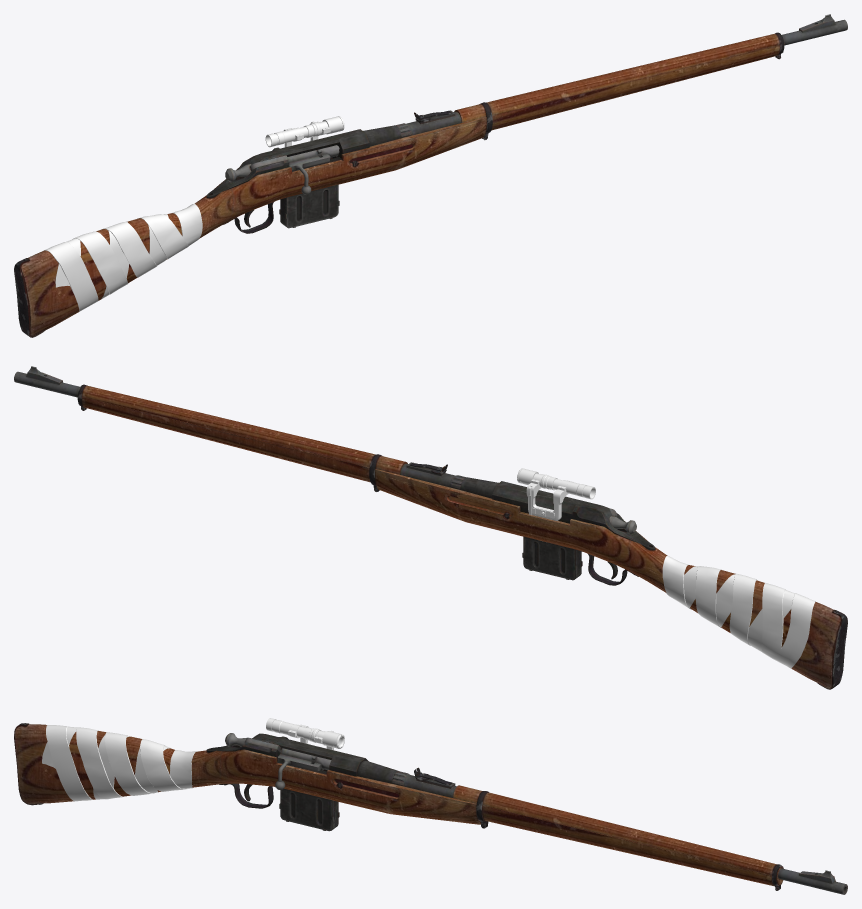
The model's file is bolt_action_rifle_7_62.glb.
3 renders of one model, top to bottom at view 1: azimuth 30°, elevation 25°; view 2: azimuth 150°, elevation 25°; view 3: azimuth 330°, elevation 25°, orthographic.
Visible parts, largest first — view 1: bolt_action_rifle_7_62, bolt_action_rifle_7_62_accesories; view 2: bolt_action_rifle_7_62, bolt_action_rifle_7_62_accesories; view 3: bolt_action_rifle_7_62, bolt_action_rifle_7_62_accesories.
Boxes of the visible parts, bbox=[...] form: bolt_action_rifle_7_62: bbox=[14, 14, 847, 337]; bolt_action_rifle_7_62_accesories: bbox=[44, 116, 344, 311]; bolt_action_rifle_7_62: bbox=[14, 366, 847, 689]; bolt_action_rifle_7_62_accesories: bbox=[517, 468, 815, 668]; bolt_action_rifle_7_62: bbox=[14, 723, 847, 894]; bolt_action_rifle_7_62_accesories: bbox=[42, 718, 344, 801].
Bounding box in the file's own units: 1.23 × 0.2045 × 0.0665.
Materials: 3 (1 with a texture image).
